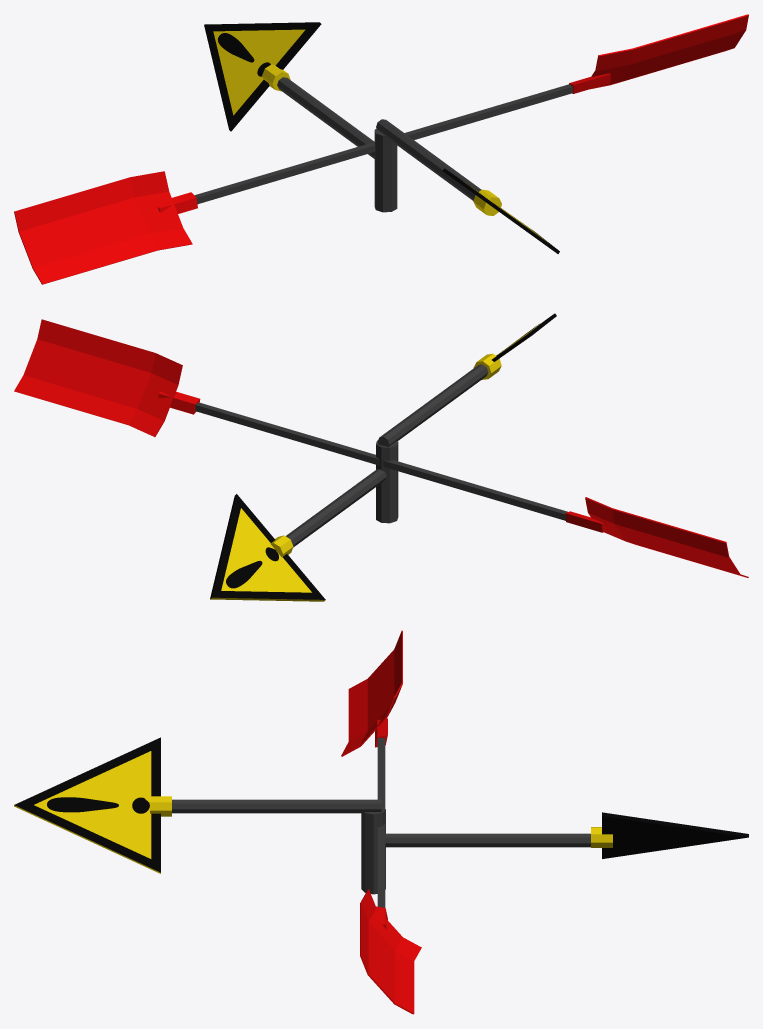
Rendered from GoblinhelicopterProps.fbx.
3 views of the same model, one above another, from view 1: azimuth 30°, elevation 25°; view 2: azimuth 150°, elevation 25°; view 3: azimuth 270°, elevation 25° (orthographic). The views are drawn at different scales.
Visible parts, largest first — view 1: Billboard.004; view 2: Billboard.004; view 3: Billboard.004.
Boxes of the visible parts, x1,y1,x2,y2 form: Billboard.004: (14,14,748,284); Billboard.004: (14,313,748,601); Billboard.004: (14,630,748,1014).
Bounding box in the file's own units: 1763 × 293 × 1500.
